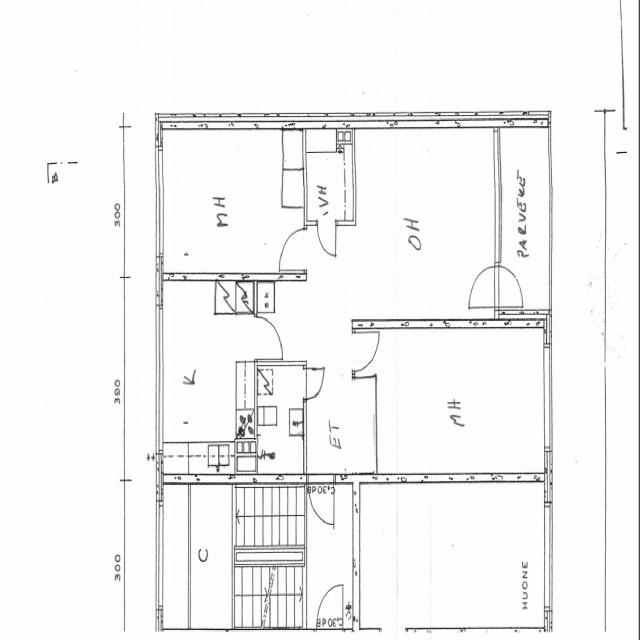door: (306, 473, 337, 529), (276, 223, 308, 276), (253, 311, 286, 362), (466, 260, 498, 311), (496, 261, 526, 313), (315, 579, 345, 628), (352, 325, 381, 373), (316, 219, 338, 260), (303, 363, 327, 400)
window: (152, 141, 168, 261), (490, 143, 505, 262)
zone: (348, 122, 498, 323), (384, 322, 549, 481), (159, 125, 301, 278), (158, 279, 256, 472), (427, 481, 549, 634), (160, 477, 237, 630), (497, 122, 552, 316), (306, 373, 378, 478), (357, 473, 398, 631), (256, 362, 306, 481), (398, 481, 431, 636), (305, 125, 354, 226)
